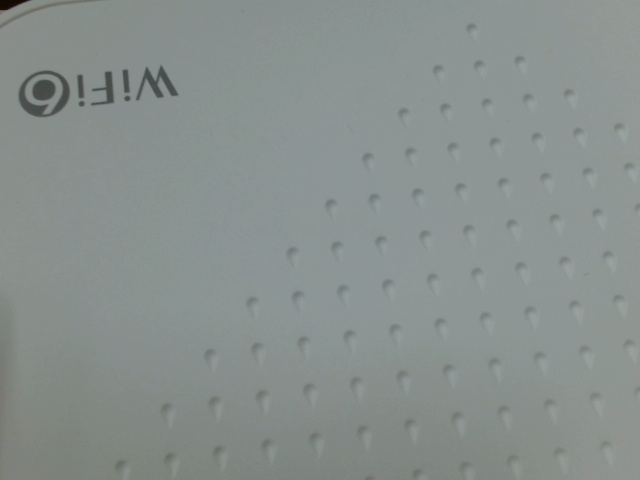AK_ZTEWIFI6: (10, 59, 187, 126)
